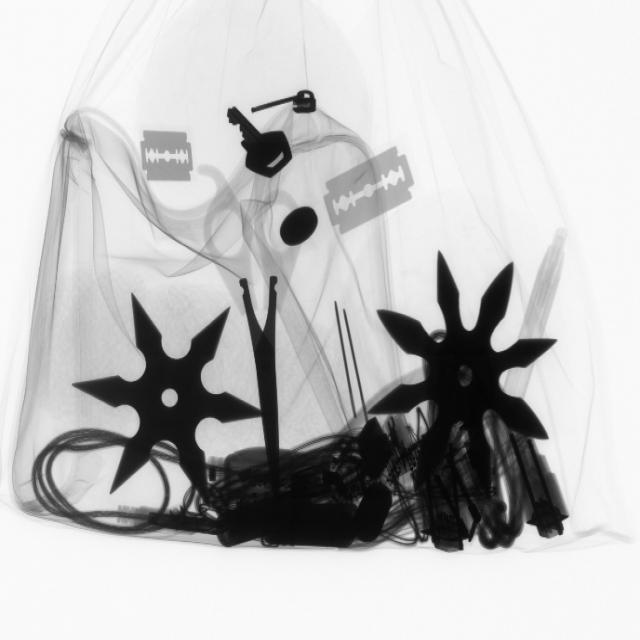BLADE: (318, 137, 424, 241), (134, 123, 202, 194)
SHURIKEN: (370, 249, 563, 495), (80, 290, 258, 506)
